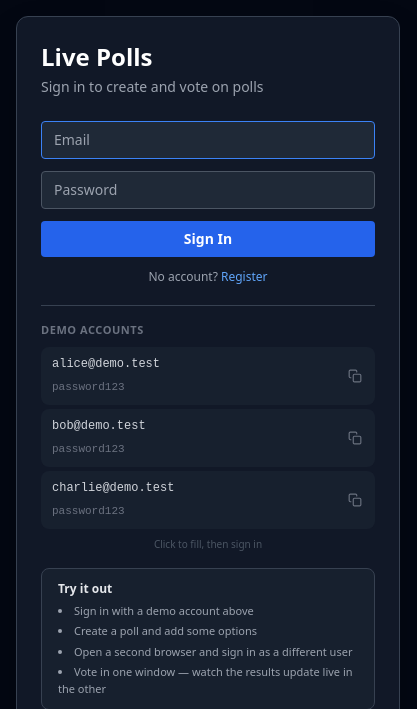
AuthForm › clicking a demo account clears any previous error
// Trigger an error first.
Type "wrong@test.com" into the field with placeholder "Email". click: (208, 140)
box: [41,121,375,159]
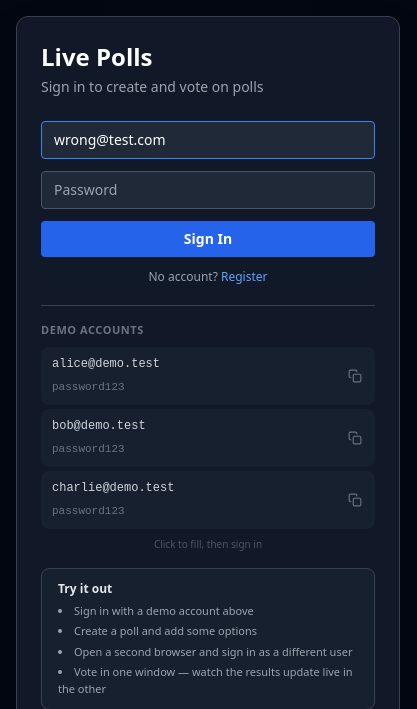
Type "badpassword" into the password field with placeholder "Password". click: (208, 190)
box: [41,171,375,209]
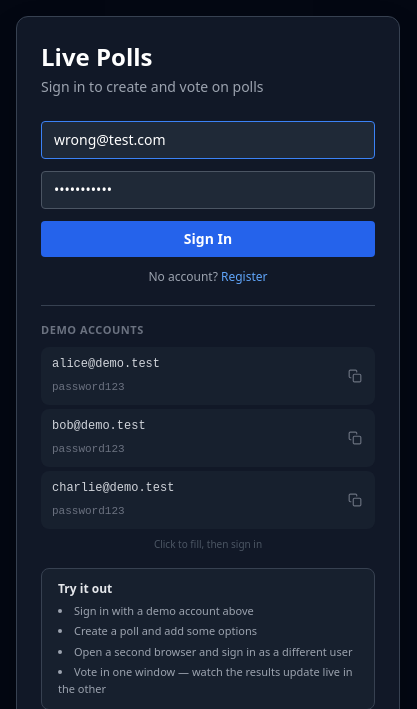
Submit the form "Sign In", box [41,121,375,257]
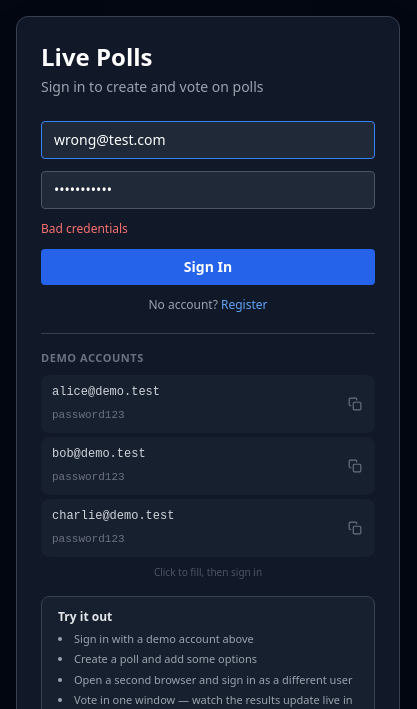
Expected: the text "Bad credentials" is shown, [41,220,128,237]
// Clicking a demo account should clear the error.
Click the text "bob@demo.test". click: (99, 454)
box: [52,446,146,460]
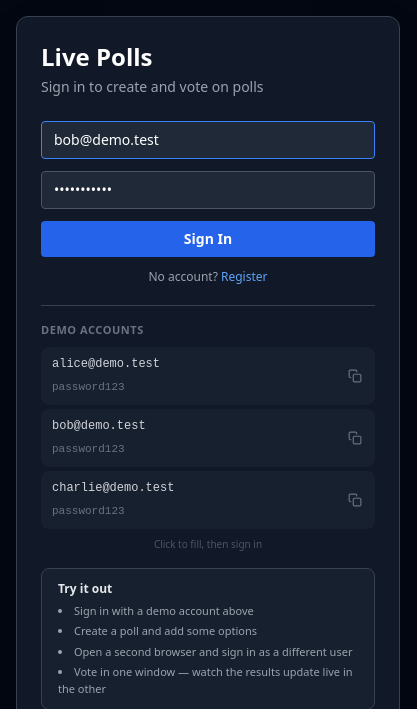
Expected: the text "Bad credentials" is gone
